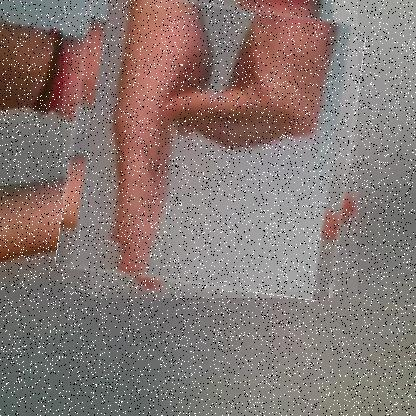Z: (63, 0, 359, 293)
